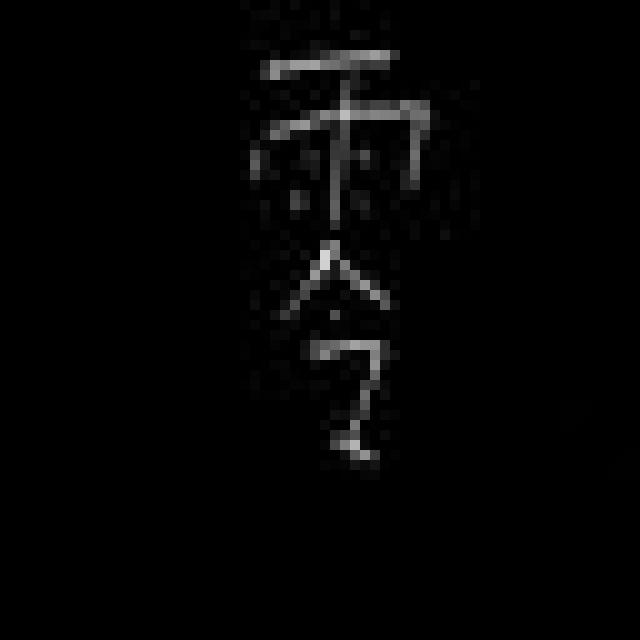0 -zero-: (239, 37, 427, 478)
